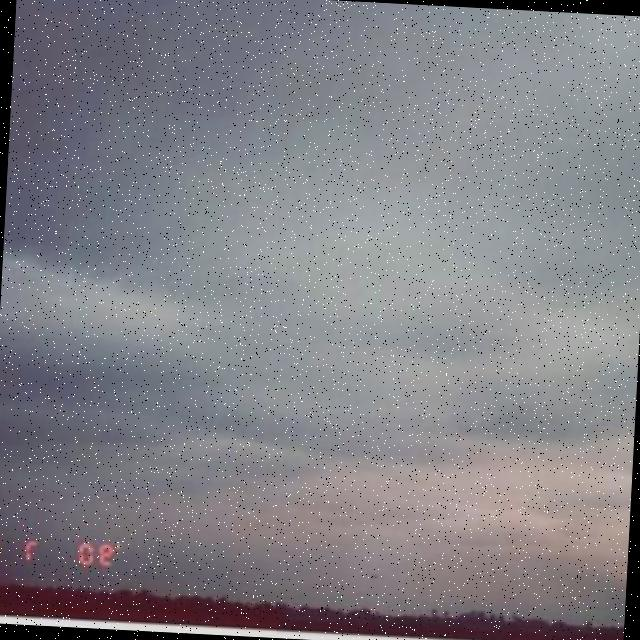Ns: (1, 50, 640, 512)
